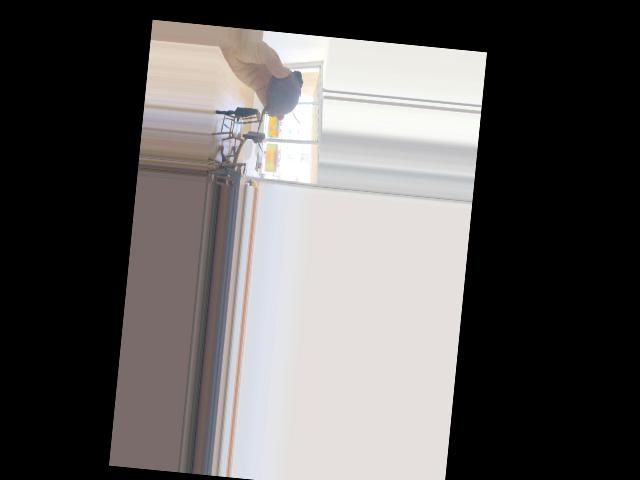beet: (255, 67, 304, 154)
